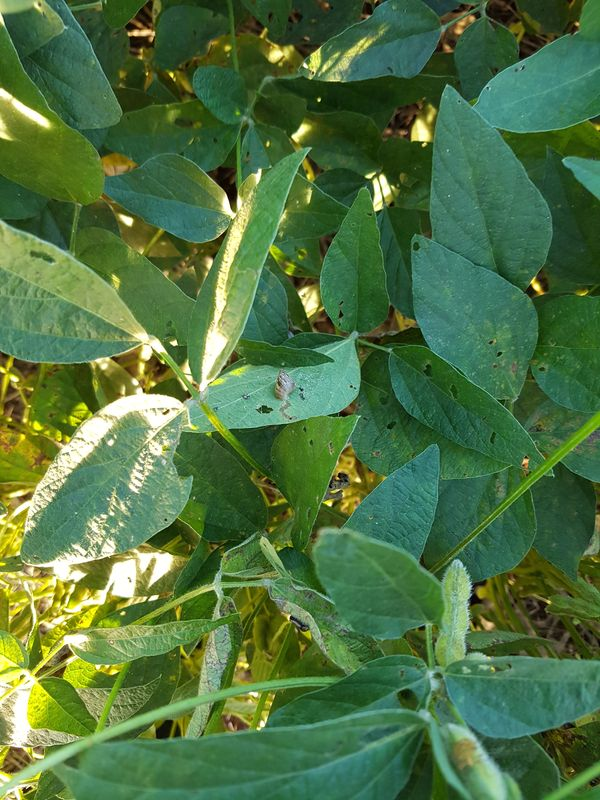Euschistus_heros_ninfa: (444, 732, 486, 778)
Gastropoda: (261, 363, 307, 412)
Spodoptera_albula: (278, 608, 319, 642)
